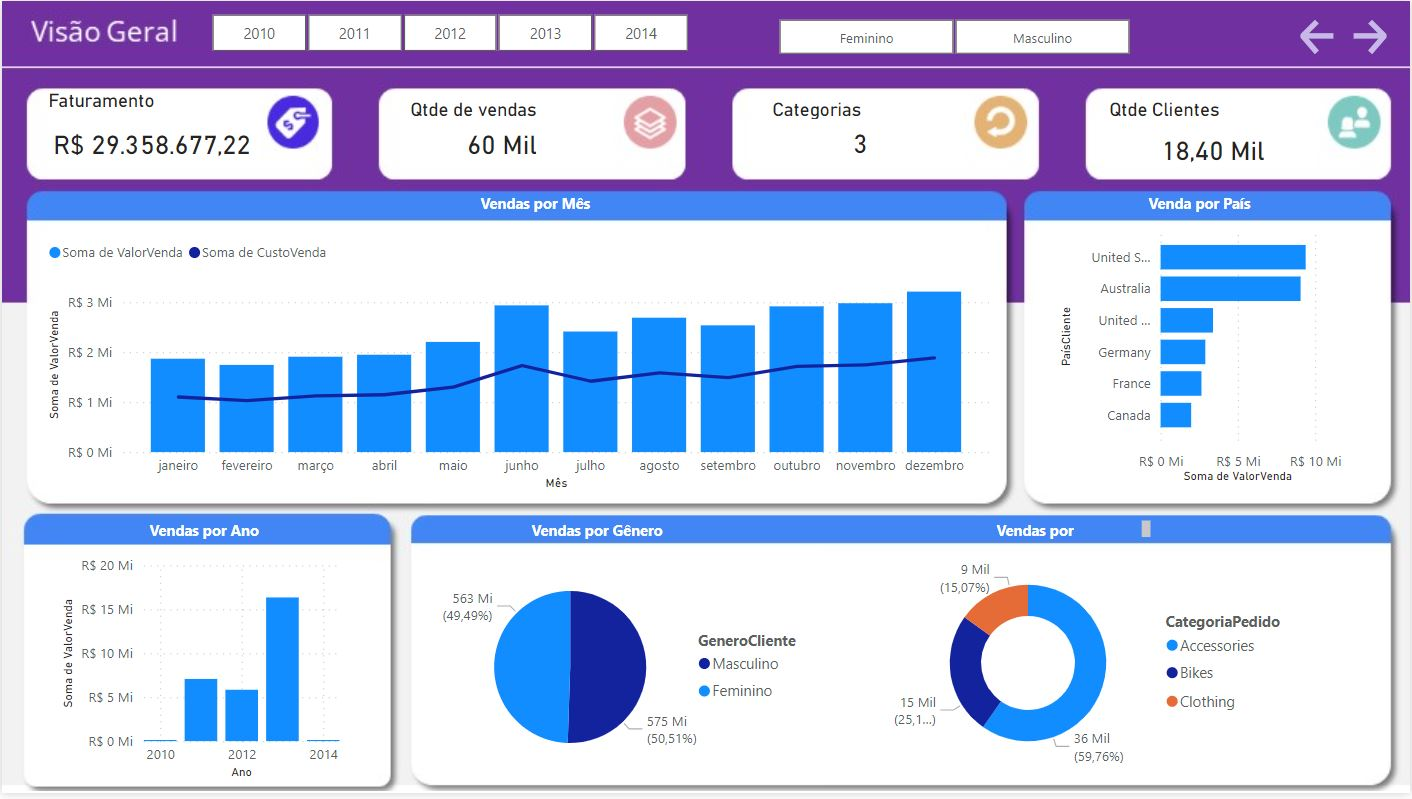

What the dashboard file says about the page in this screenshot:
{"tool":"powerbi","page":{"name":"Visão Geral","canvas":[1280,720],"ordinal":1},"visuals":[{"type":"actionButton","box":[1176.4,12.7,46.4,40],"z":0},{"type":"actionButton","box":[1222.7,12.7,46.4,40],"z":1},{"type":"card","title":"Faturamento","fields":{"Values":["vw_AnaliseVendas - vw_AnaliseVendas.ValorVenda"]},"box":[37.3,80,198.2,80.9],"z":2},{"type":"card","title":"Qtde de vendas","fields":{"Values":["vw_AnaliseVendas - vw_AnaliseVendas.QuantidadeVendida"]},"box":[366.4,88.2,176.4,64.5],"z":3},{"type":"card","title":"Categorias","fields":{"Values":["vw_AnaliseVendas - vw_AnaliseVendas.CategoriaPedido"]},"box":[695.5,88.2,170,61.8],"z":4},{"type":"card","title":"Qtde Clientes","fields":{"Values":["vw_AnaliseVendas - vw_AnaliseVendas.NomeCliente"]},"box":[1001.8,88.2,198.2,75.5],"z":5},{"type":"slicer","fields":{"Values":["vw_AnaliseVendas - vw_AnaliseVendas.DataPedido.Variation.Hierarquia de datas.Ano"]},"box":[165.5,5.5,481.8,47.3],"z":6},{"type":"barChart","fields":{"Category":["vw_AnaliseVendas - vw_AnaliseVendas.PaísCliente"],"Y":["vw_AnaliseVendas - vw_AnaliseVendas.ValorVenda"]},"box":[957.3,197.3,265.5,245.5],"z":8},{"type":"textbox","box":[37,530.5,198,150],"z":9},{"type":"textbox","box":[1037.3,170,118.2,27.3],"z":10},{"type":"columnChart","fields":{"Category":["vw_AnaliseVendas - vw_AnaliseVendas.Ano"],"Y":["vw_AnaliseVendas - vw_AnaliseVendas.ValorVenda"]},"box":[50,499.1,261.8,212.7],"z":11},{"type":"lineClusteredColumnComboChart","fields":{"Category":["vw_AnaliseVendas - vw_AnaliseVendas.DataPedido.Variation.Hierarquia de datas.Mês"],"Y2":["vw_AnaliseVendas - vw_AnaliseVendas.CustoVenda"],"Y":["vw_AnaliseVendas - vw_AnaliseVendas.ValorVenda"]},"box":[37.3,209.1,865.5,240],"z":12},{"type":"textbox","box":[129.1,467.3,120.9,31.8],"z":13},{"type":"textbox","box":[430,170,148.2,31.8],"z":14},{"type":"pieChart","fields":{"Category":["vw_AnaliseVendas - vw_AnaliseVendas.GeneroCliente"],"Y":["vw_AnaliseVendas - vw_AnaliseVendas.IDCliente"]},"box":[395.5,499.1,348.2,212.7],"z":15},{"type":"textbox","box":[476.4,467.3,150.9,31.8],"z":16},{"type":"slicer","fields":{"Values":["vw_AnaliseVendas - vw_AnaliseVendas.GeneroCliente"]},"box":[680.9,10,368.2,45.5],"z":17},{"type":"donutChart","fields":{"Category":["vw_AnaliseVendas - vw_AnaliseVendas.CategoriaPedido"],"Y":["vw_AnaliseVendas - vw_AnaliseVendas.QuantidadeVendida"]},"box":[802.7,495.5,380,212.7],"z":18},{"type":"textbox","box":[899.1,467.3,150,28.2],"z":19}]}

Visuals, with their boxes in screenshot pixels (x1, y1, x2, y2), scaled from the page's 1280x720 canvas onto the 1412x799 screenshot:
actionButton: 1298 14 1349 58
actionButton: 1349 14 1400 58
"Faturamento" card: 41 89 260 179
"Qtde de vendas" card: 404 98 599 169
"Categorias" card: 767 98 955 166
"Qtde Clientes" card: 1105 98 1324 182
slicer - vw_AnaliseVendas - vw_AnaliseVendas.DataPedido.Variation.Hierarquia de datas.Ano: 183 6 714 59
barChart - vw_AnaliseVendas - vw_AnaliseVendas.PaísCliente x vw_AnaliseVendas - vw_AnaliseVendas.ValorVenda: 1056 219 1349 491
textbox: 41 589 259 755
textbox: 1144 189 1275 219
columnChart - vw_AnaliseVendas - vw_AnaliseVendas.Ano x vw_AnaliseVendas - vw_AnaliseVendas.ValorVenda: 55 554 344 790
lineClusteredColumnComboChart - vw_AnaliseVendas - vw_AnaliseVendas.DataPedido.Variation.Hierarquia de datas.Mês x vw_AnaliseVendas - vw_AnaliseVendas.CustoVenda: 41 232 996 498
textbox: 142 519 276 554
textbox: 474 189 638 224
pieChart - vw_AnaliseVendas - vw_AnaliseVendas.GeneroCliente x vw_AnaliseVendas - vw_AnaliseVendas.IDCliente: 436 554 820 790
textbox: 526 519 692 554
slicer - vw_AnaliseVendas - vw_AnaliseVendas.GeneroCliente: 751 11 1157 62
donutChart - vw_AnaliseVendas - vw_AnaliseVendas.CategoriaPedido x vw_AnaliseVendas - vw_AnaliseVendas.QuantidadeVendida: 885 550 1305 786
textbox: 992 519 1157 550
